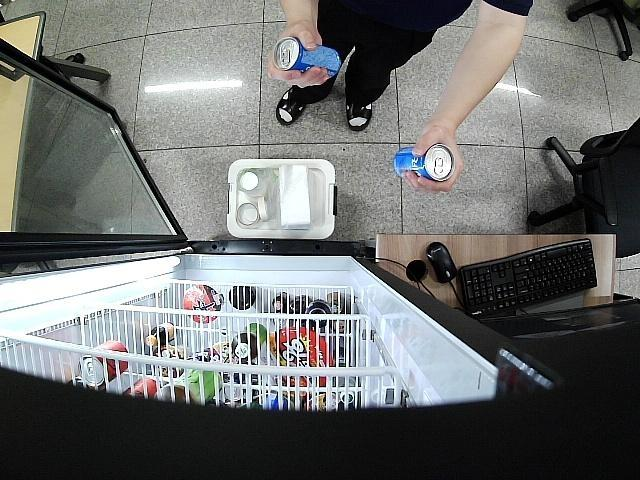15_letsbe: (274, 37, 340, 78), (394, 145, 455, 182)
